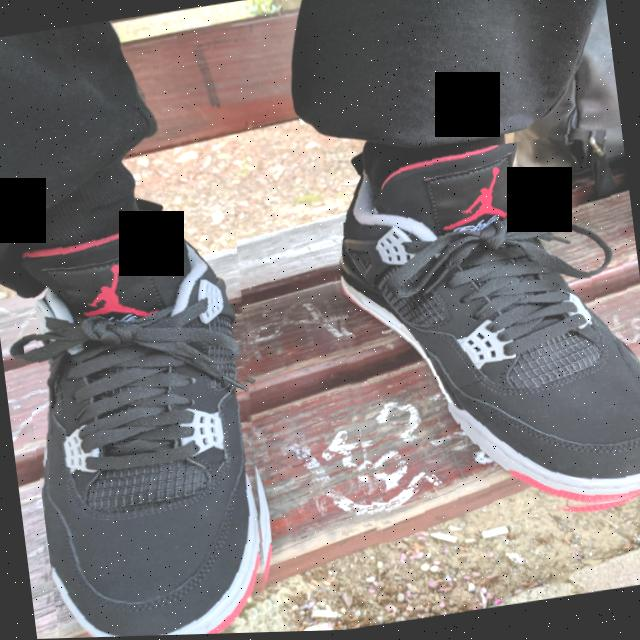shoe: (313, 129, 640, 550), (9, 198, 286, 640)
